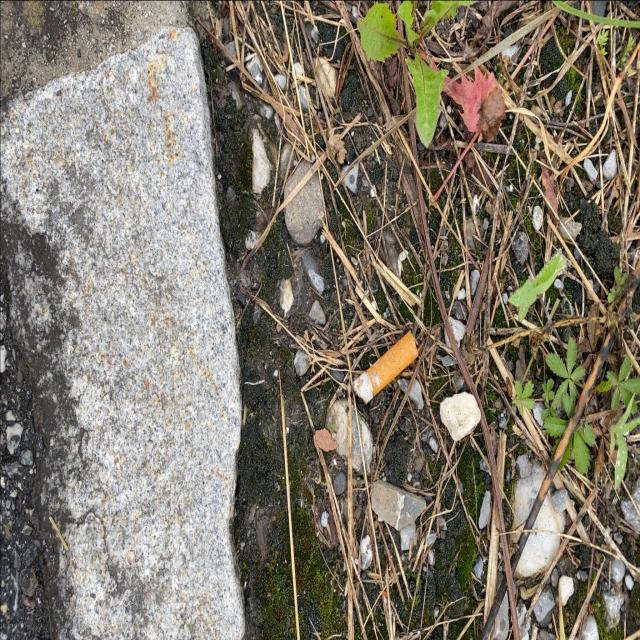other waste: (351, 329, 418, 404)
